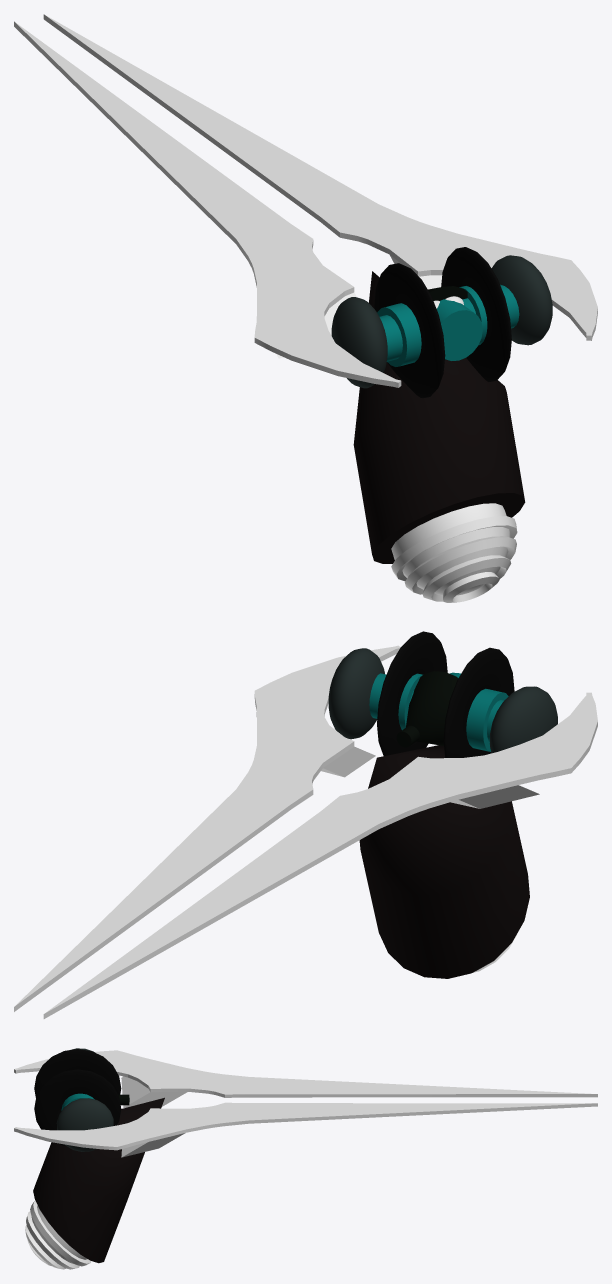
File: prop_ship_charlize.fbx
3 renders of one model, top to bottom at view 1: azimuth 30°, elevation 25°; view 2: azimuth 150°, elevation 25°; view 3: azimuth 270°, elevation 25°, orthographic. The views are drawn at different scales.
Parts seen in each view (by area): view 1: pCube3; view 2: pCube3; view 3: pCube3.
Boxes of the visible parts, bbox=[...] form: pCube3: bbox=[14, 14, 597, 602]; pCube3: bbox=[14, 631, 597, 1018]; pCube3: bbox=[14, 1048, 597, 1269].
Bounding box in the file's own units: 4.46 × 4.44 × 11.36.
